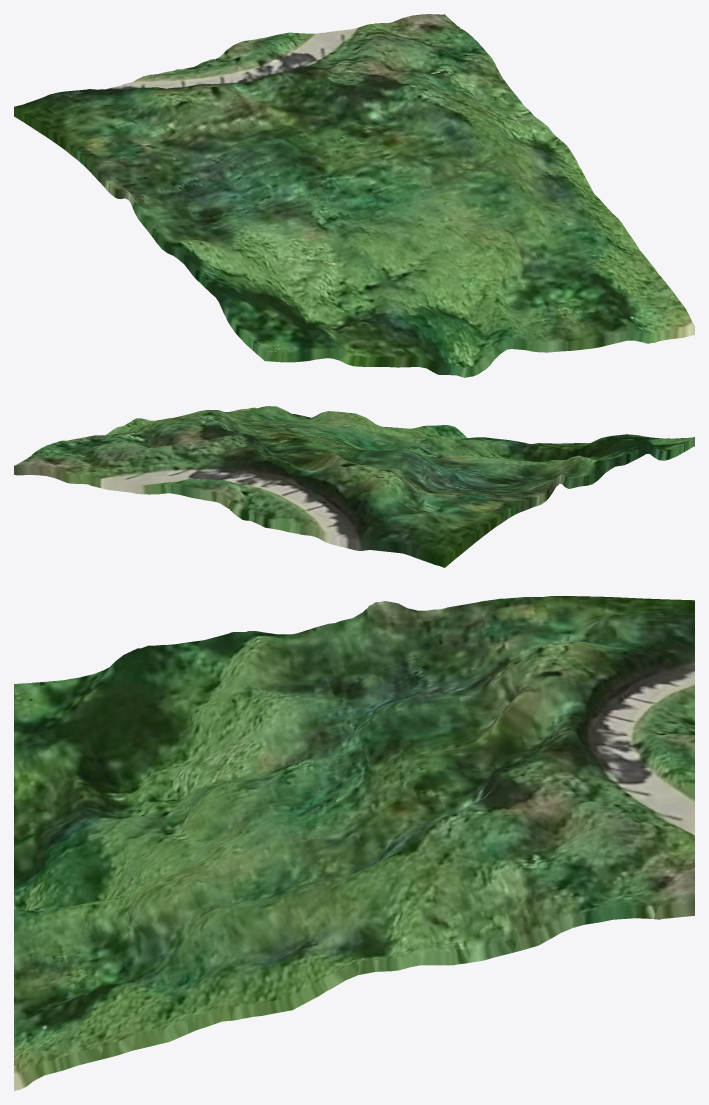
File: z20-167560-405174-h0-yup-uvflip-v3-world.glb
3 renders of one model, top to bottom at view 1: azimuth 30°, elevation 25°; view 2: azimuth 150°, elevation 25°; view 3: azimuth 270°, elevation 25°, orthographic. The views are drawn at different scales.
Bounding box in the file's own units: 30.16 × 11.36 × 30.32.
Materials: 1 (1 with a texture image).
